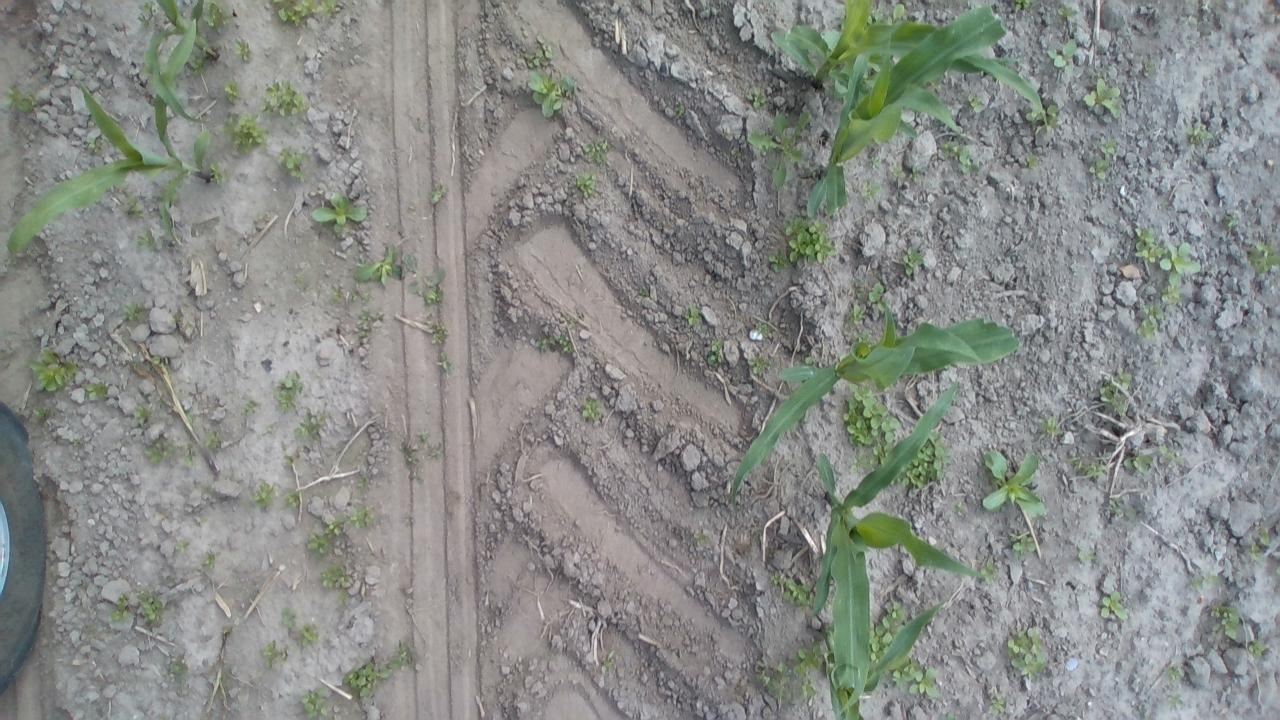Maize: (730, 296, 1020, 499), (811, 377, 982, 720), (804, 0, 1008, 217), (8, 74, 216, 263), (769, 0, 1060, 130), (816, 601, 944, 720), (142, 0, 218, 125)
Weeds: (842, 382, 899, 472), (747, 109, 810, 190), (982, 452, 1048, 519), (889, 430, 954, 487), (782, 214, 836, 264), (312, 191, 368, 234), (868, 601, 906, 663), (401, 253, 446, 304), (1006, 628, 1048, 682), (528, 71, 576, 118), (28, 346, 76, 391), (352, 244, 403, 286), (1158, 242, 1202, 290), (220, 112, 270, 154), (891, 656, 938, 698), (1081, 72, 1123, 118), (260, 81, 310, 118), (794, 641, 824, 700), (341, 660, 390, 696), (272, 0, 336, 26), (754, 660, 794, 700), (1099, 372, 1132, 414), (940, 140, 980, 174), (276, 146, 310, 182), (781, 578, 817, 612), (1210, 602, 1240, 640), (275, 370, 302, 412), (1134, 226, 1164, 262), (1248, 241, 1280, 274), (1046, 38, 1076, 72), (524, 35, 554, 68), (1136, 304, 1162, 342), (1066, 455, 1108, 478), (200, 0, 231, 31), (293, 412, 325, 441), (2, 85, 36, 112), (136, 589, 163, 623), (302, 686, 328, 720), (400, 446, 422, 486), (1099, 591, 1128, 620), (144, 438, 175, 464), (1026, 106, 1058, 130), (582, 138, 610, 164), (321, 562, 348, 588), (250, 481, 275, 509), (158, 178, 182, 207), (574, 170, 598, 199), (122, 194, 148, 219), (1037, 416, 1063, 440), (186, 48, 208, 76), (902, 246, 924, 274), (868, 282, 888, 312), (1010, 535, 1036, 558), (109, 594, 130, 622), (307, 532, 331, 556), (296, 622, 320, 646), (1160, 284, 1184, 308), (768, 250, 792, 274), (348, 506, 373, 529), (1187, 124, 1212, 147), (1123, 456, 1153, 474), (581, 397, 604, 420), (980, 558, 999, 584), (85, 380, 109, 400), (427, 320, 447, 344), (208, 162, 229, 184), (746, 87, 768, 108), (1088, 159, 1110, 180), (222, 80, 242, 103), (388, 645, 408, 668), (860, 179, 880, 202), (428, 183, 448, 206), (1158, 444, 1182, 463), (748, 356, 772, 375), (357, 308, 372, 338), (137, 2, 154, 28), (232, 38, 250, 62), (845, 304, 863, 328), (853, 330, 877, 347), (685, 302, 702, 326), (886, 4, 904, 26), (262, 640, 276, 668), (136, 229, 156, 248), (324, 517, 344, 536), (134, 405, 152, 425), (1076, 546, 1096, 564), (851, 276, 866, 300), (708, 340, 722, 365), (887, 165, 907, 182), (968, 93, 984, 114), (862, 11, 884, 26), (122, 304, 140, 322), (600, 650, 614, 673), (280, 607, 294, 628), (32, 404, 50, 420), (284, 490, 300, 508), (1247, 640, 1266, 655), (692, 532, 712, 546), (1108, 498, 1124, 515), (1099, 138, 1116, 154), (440, 351, 452, 373), (1258, 526, 1271, 546), (1167, 666, 1183, 682), (170, 660, 187, 675), (558, 334, 572, 352), (328, 284, 342, 302), (179, 452, 195, 467), (205, 432, 220, 448), (1023, 154, 1038, 170), (1015, 0, 1032, 13), (86, 137, 100, 152), (989, 699, 1004, 713), (205, 550, 216, 569), (756, 322, 769, 338), (1248, 544, 1260, 561), (242, 400, 256, 414), (429, 446, 444, 459), (928, 77, 942, 90), (184, 411, 196, 426), (1204, 573, 1222, 583), (536, 334, 546, 352), (1224, 215, 1236, 229), (672, 105, 686, 117), (1144, 58, 1156, 72), (218, 674, 230, 688), (338, 589, 347, 607), (910, 166, 920, 182), (1058, 8, 1078, 16), (952, 500, 964, 513), (175, 542, 189, 553), (770, 571, 781, 584), (1190, 578, 1203, 589), (282, 455, 293, 466), (869, 157, 880, 168), (358, 476, 368, 488), (824, 594, 834, 606), (1168, 696, 1180, 706), (801, 357, 814, 366), (731, 148, 742, 158), (638, 286, 649, 296), (416, 121, 426, 131), (361, 292, 370, 303), (940, 713, 954, 720), (262, 427, 274, 435), (69, 438, 80, 446), (568, 318, 575, 330), (548, 335, 556, 345), (152, 355, 160, 364), (420, 432, 430, 439), (296, 278, 302, 284)
